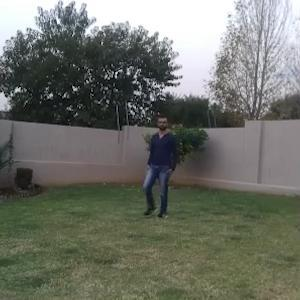follow: (147, 115, 176, 213)
